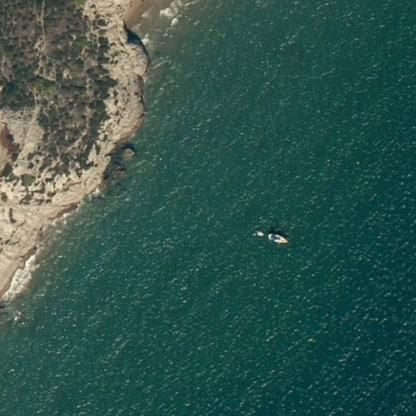ship: (246, 217, 293, 251)
